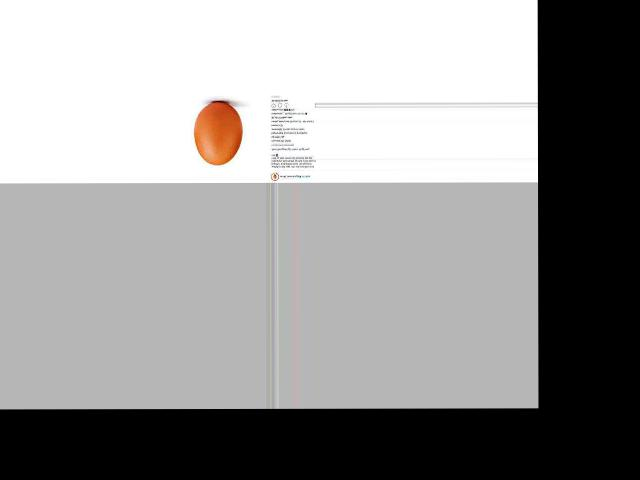egg: (194, 101, 242, 164)
